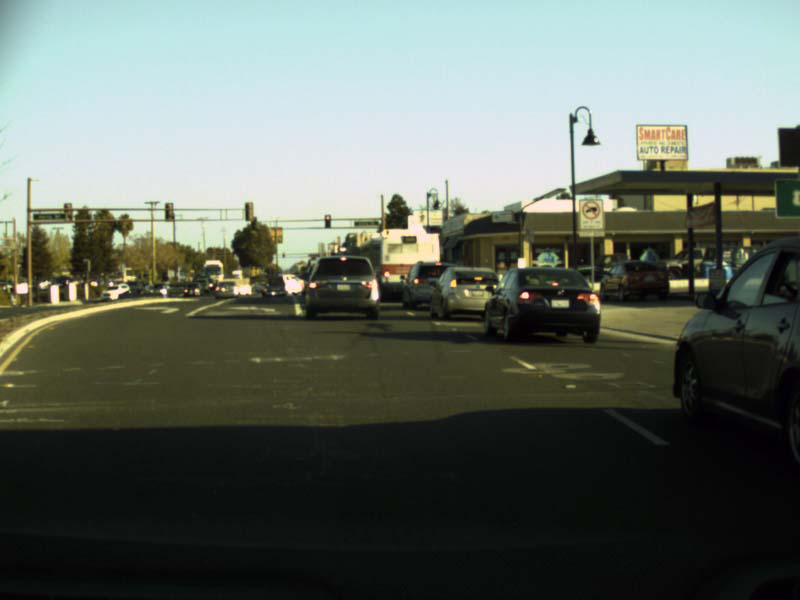Red: (324, 214, 331, 227)
